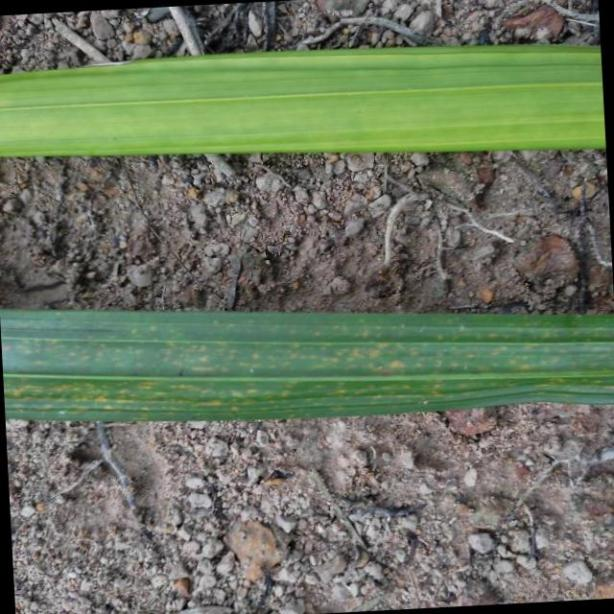nitrogen: (0, 38, 614, 155)
